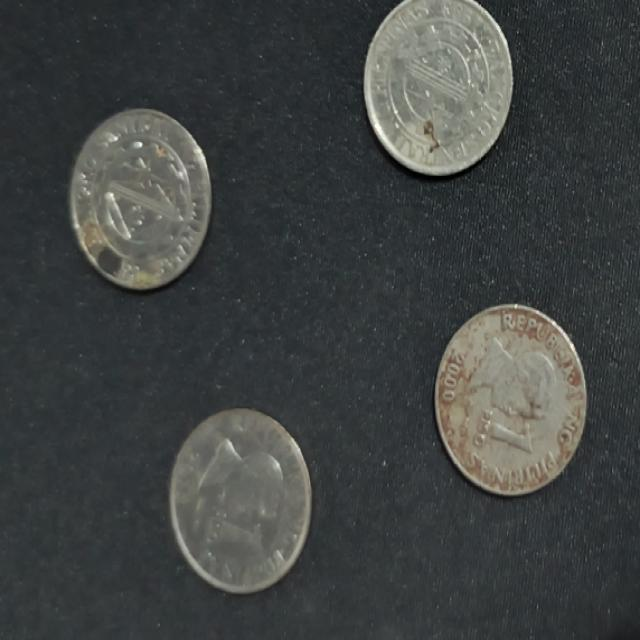1_peso: (435, 304, 586, 495), (170, 409, 311, 592), (365, 0, 511, 173), (70, 111, 210, 288)
